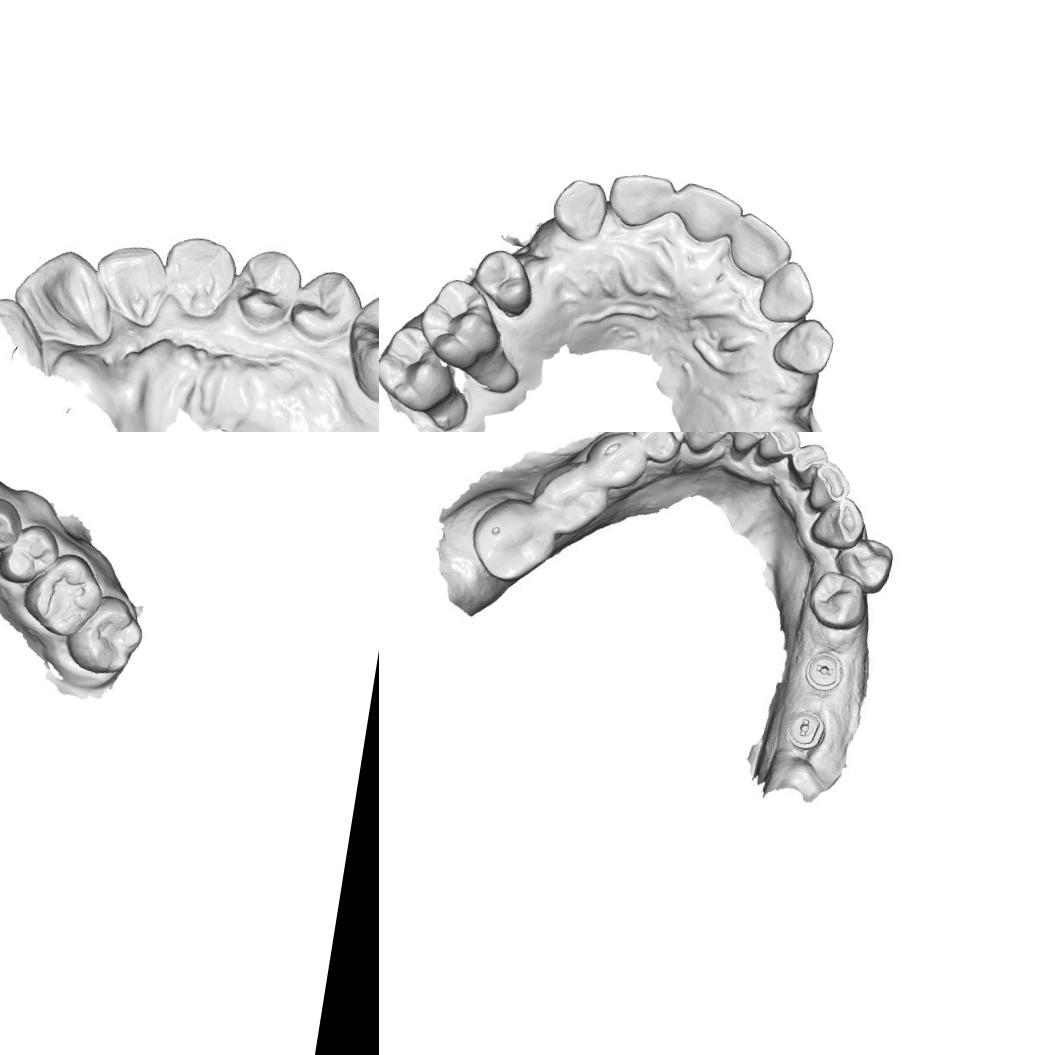canine: (158, 229, 244, 325), (546, 174, 612, 246), (768, 312, 838, 379), (806, 492, 868, 558), (674, 432, 735, 460)
implant_minus: (782, 706, 828, 752), (801, 648, 846, 694)
incisor: (9, 241, 120, 349), (88, 230, 176, 328), (722, 207, 799, 286), (671, 179, 748, 250), (603, 168, 679, 235), (754, 255, 820, 330), (804, 455, 852, 518), (781, 437, 829, 494), (755, 432, 805, 467), (728, 432, 771, 456)
molar: (410, 272, 510, 377), (464, 492, 560, 590), (17, 546, 109, 642), (379, 320, 464, 419), (62, 590, 148, 680), (531, 461, 611, 534), (336, 289, 379, 418)
premolar: (288, 264, 366, 350), (232, 244, 305, 335), (467, 244, 539, 318), (802, 567, 874, 634), (0, 518, 64, 589), (583, 432, 652, 491), (833, 534, 897, 596), (627, 432, 687, 466), (0, 490, 28, 562)
